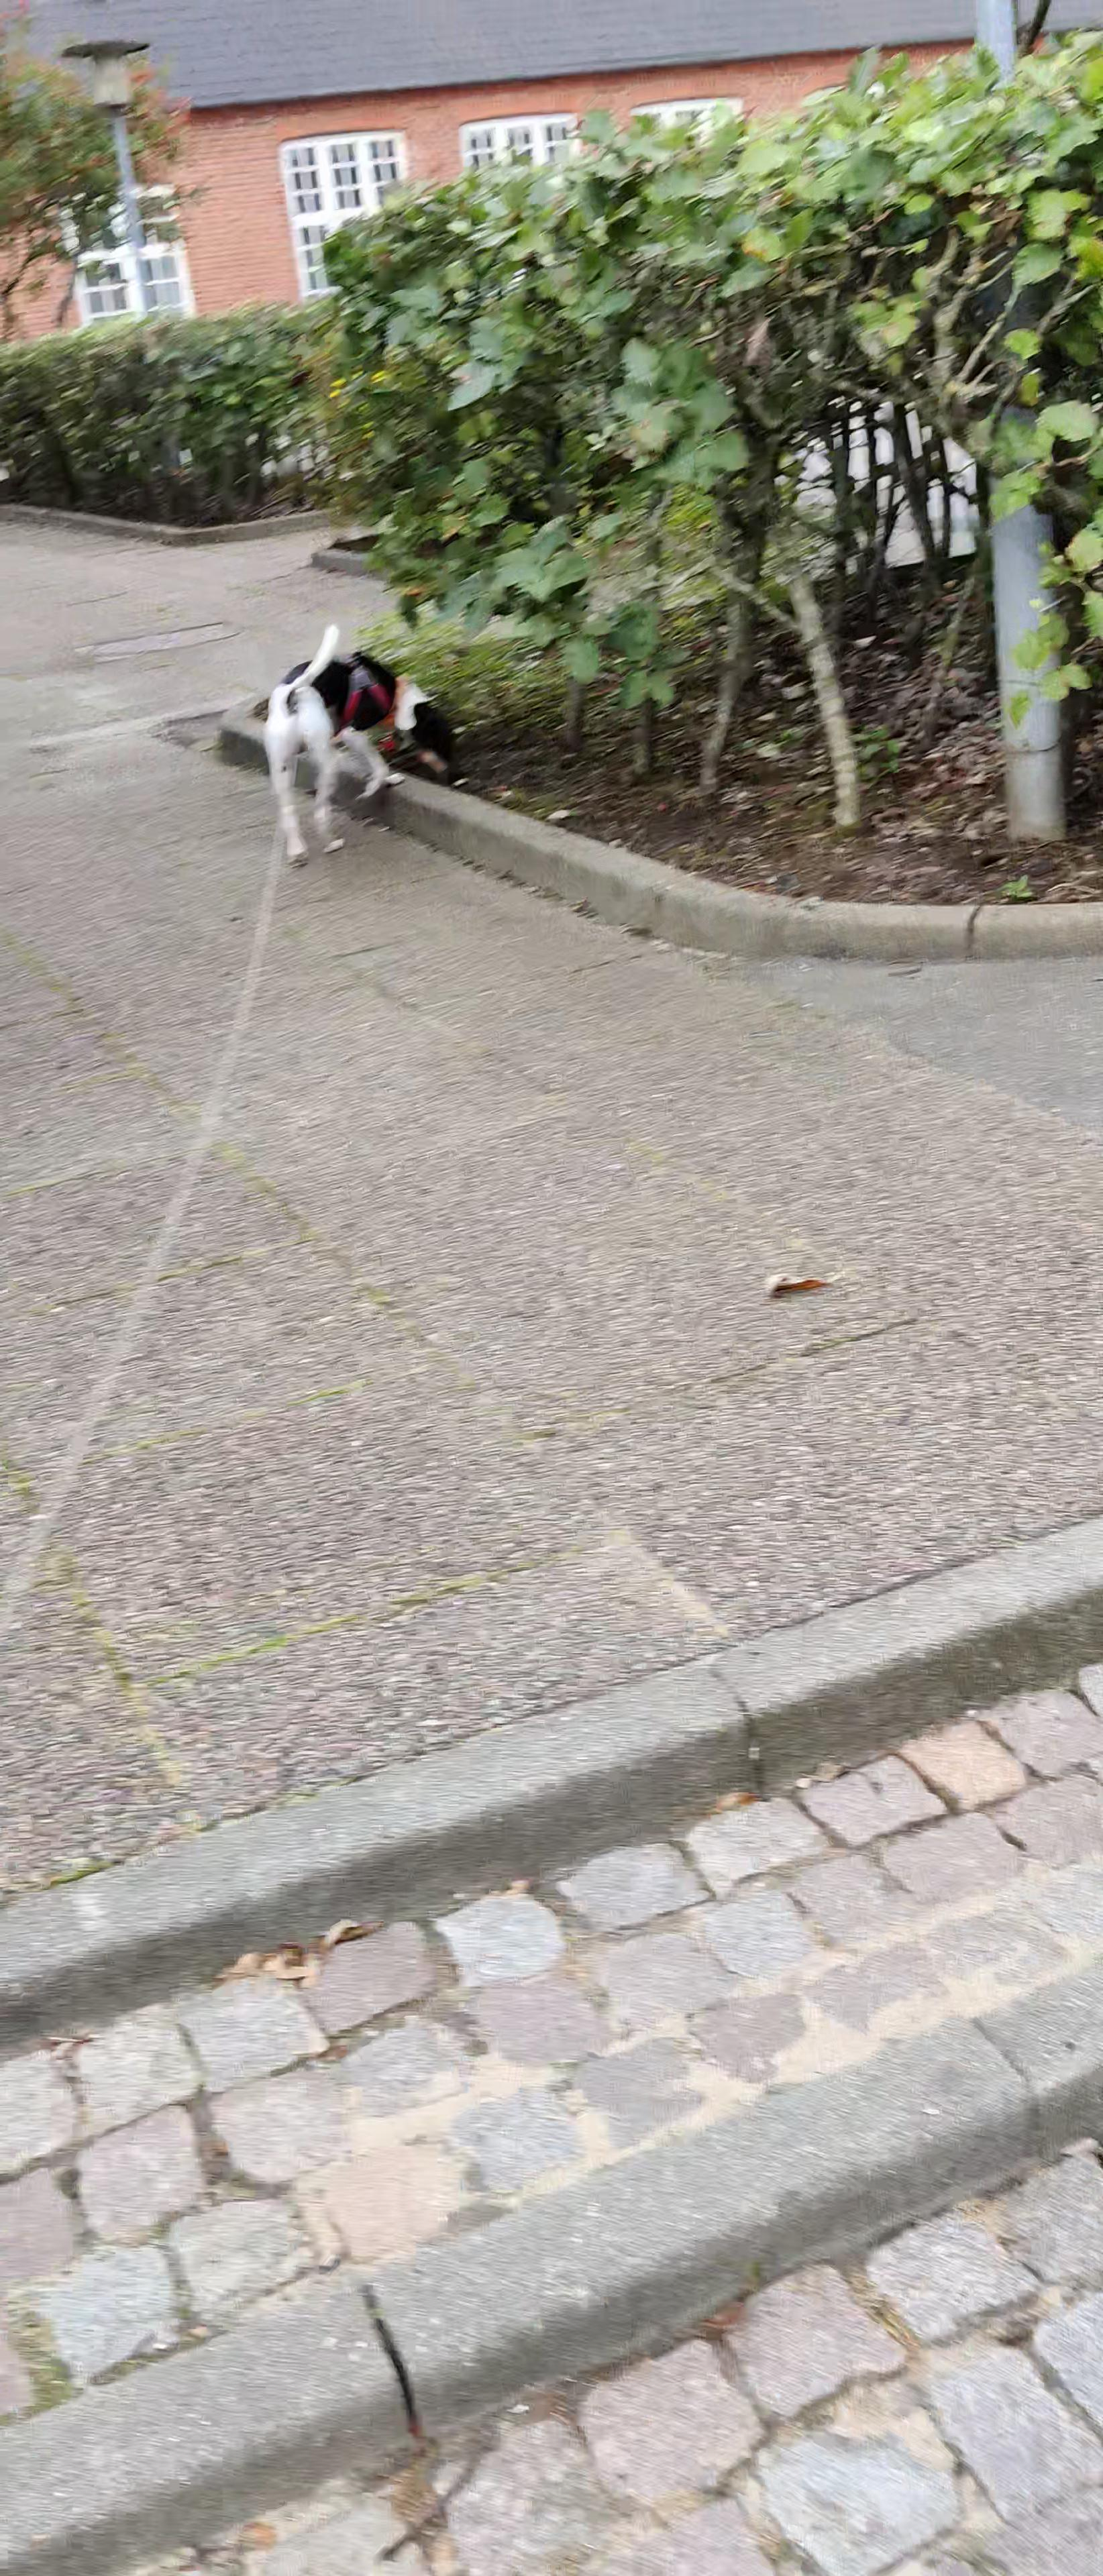Dog: (237, 605, 477, 876)
